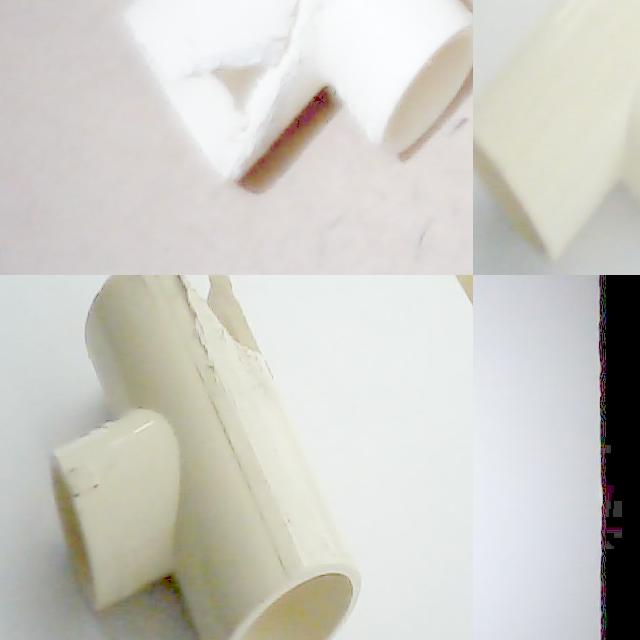Defective: (175, 0, 343, 178), (159, 275, 263, 358), (186, 275, 257, 354)
T Joint: (53, 275, 362, 640), (121, 0, 473, 180)
